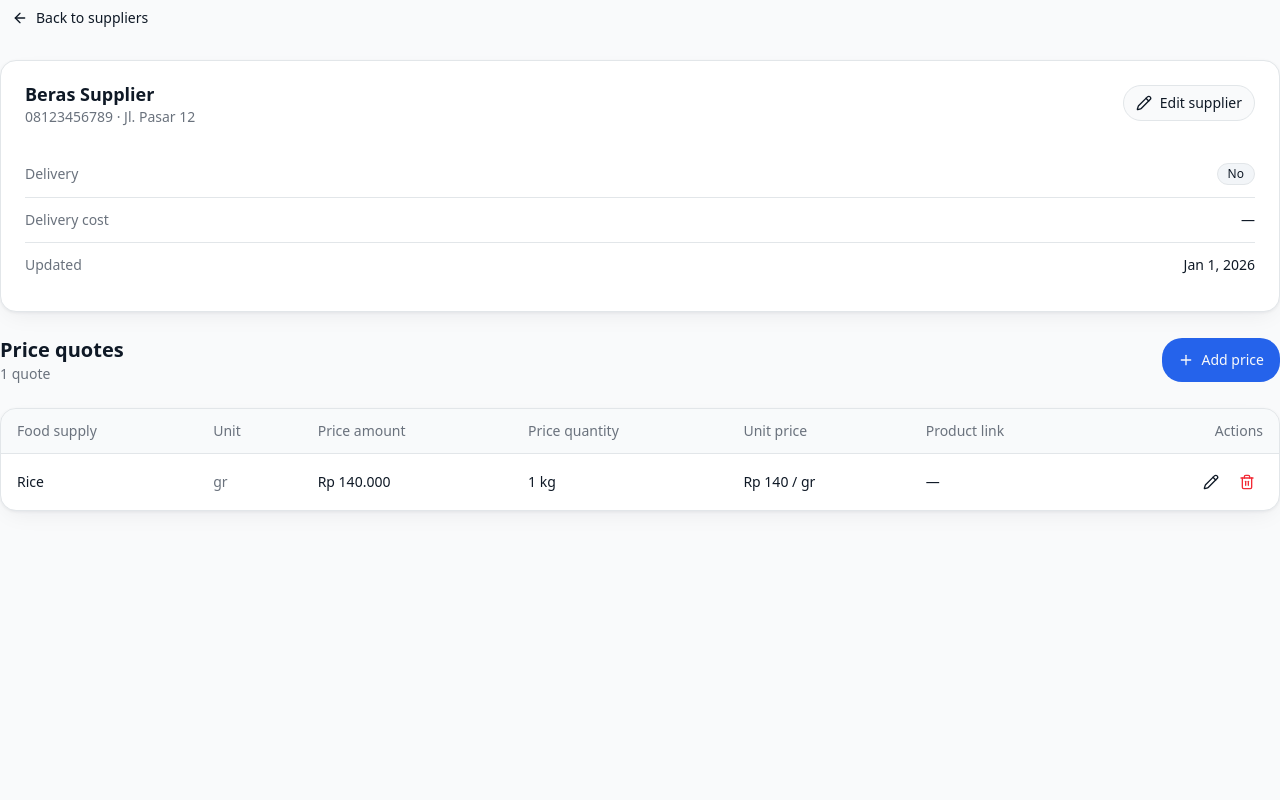
AdminSupplierDetailContent › deletes a price quote after confirmation and refetches supplier detail
Check: the text "Rice" is shown, box x1=1 y1=454 x2=197 y2=510
Click the button named "Delete price quote" at [1247, 482], box x1=1231 y1=466 x2=1263 y2=498
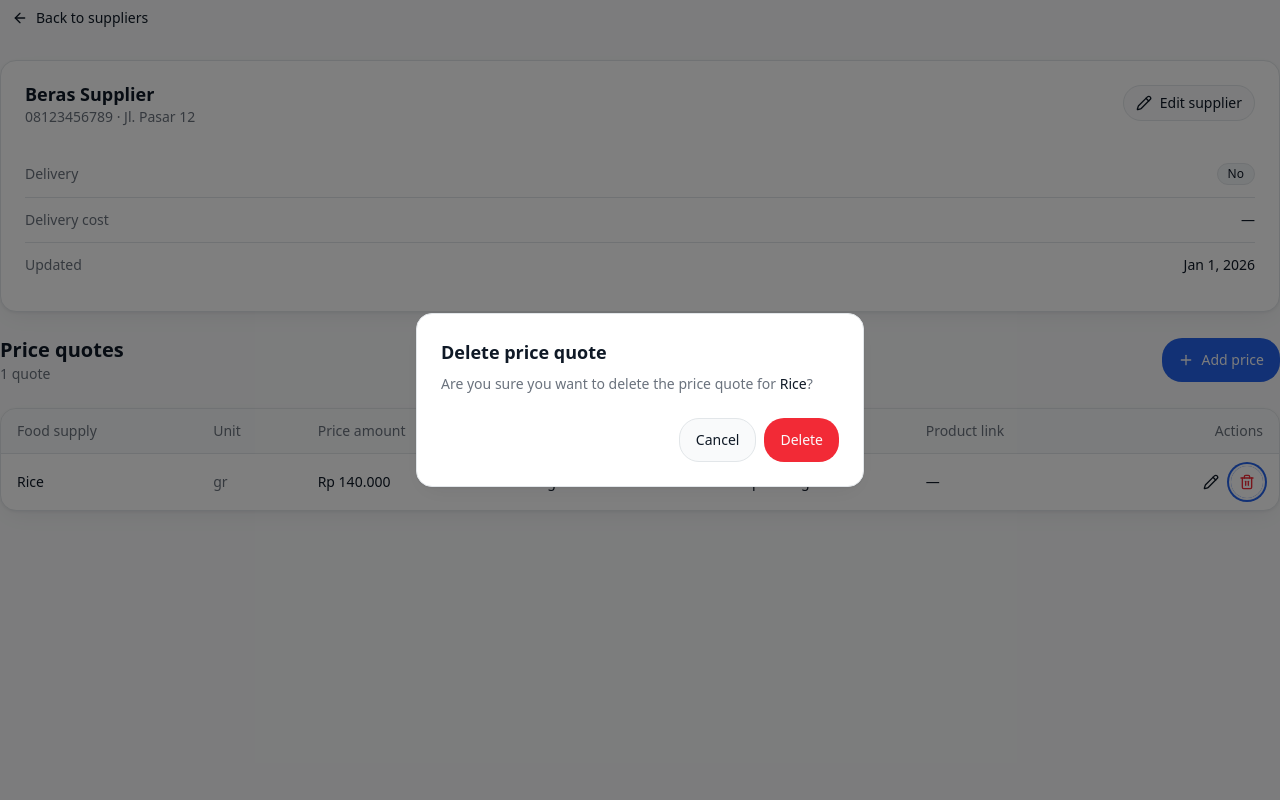
Check: the heading "Delete price quote" is shown, box x1=441 y1=340 x2=607 y2=364
Click the button "Delete" at [802, 440], box x1=764 y1=418 x2=839 y2=462
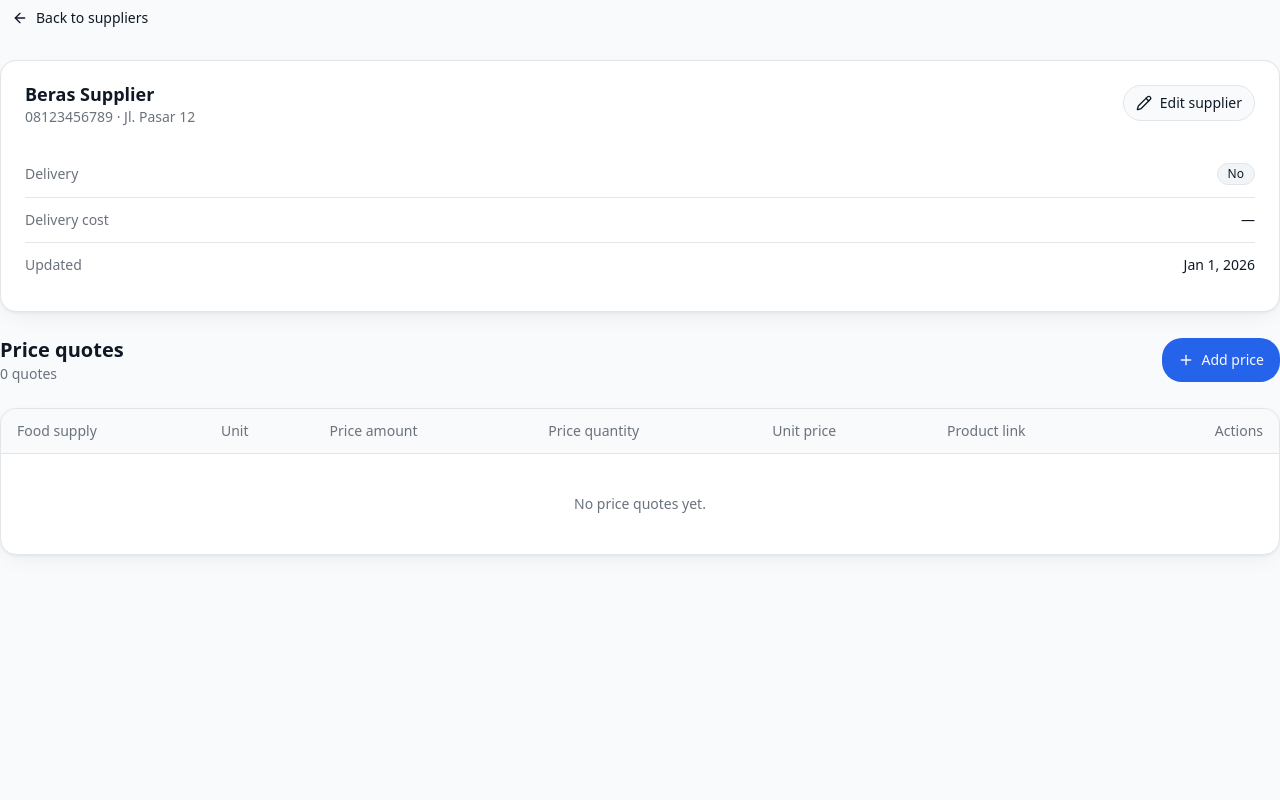
Check: the text "No price quotes yet." is shown, box x1=1 y1=454 x2=1279 y2=554
